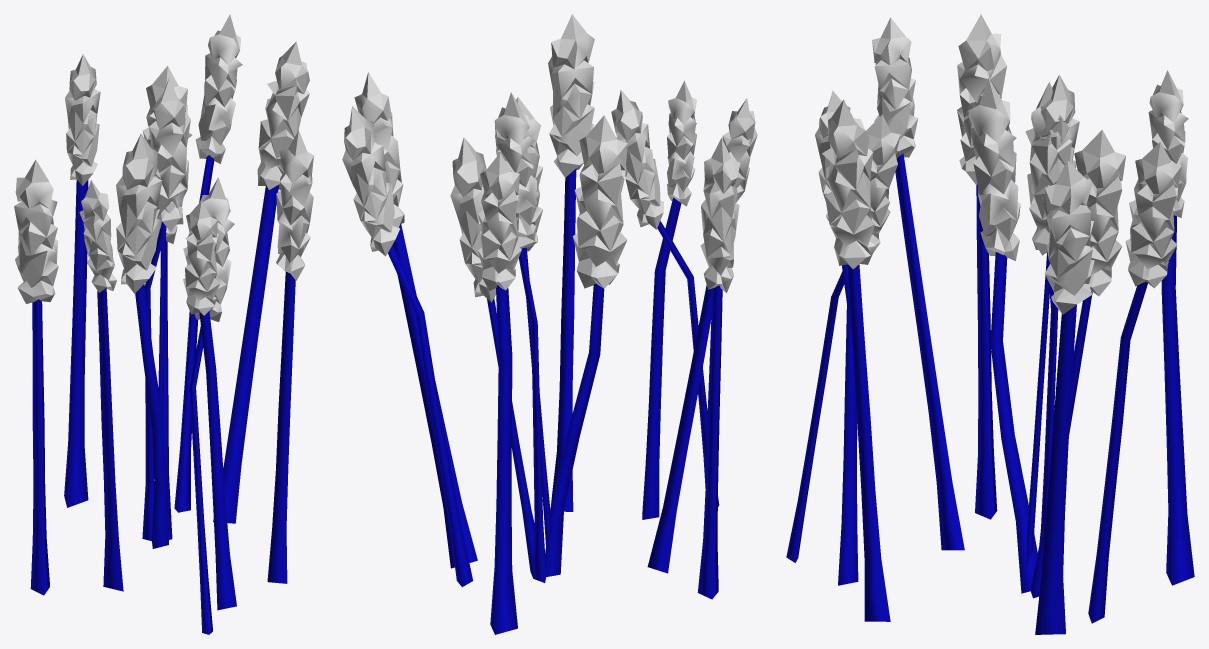
File: PatchWheat01.fbx
3 renders of one model, left to right at view 1: azimuth 30°, elevation 25°; view 2: azimuth 150°, elevation 25°; view 3: azimuth 270°, elevation 25°, orthographic. The views are drawn at different scales.
Visible parts, largest first — view 1: PatchWheat01_LOD0; view 2: PatchWheat01_LOD0; view 3: PatchWheat01_LOD0.
Boxes of the visible parts, left/top/right/bottom form: PatchWheat01_LOD0: left=14, top=14, right=313, bottom=634; PatchWheat01_LOD0: left=342, top=14, right=757, bottom=634; PatchWheat01_LOD0: left=786, top=14, right=1194, bottom=634.
Size of what is drawn, in the model's own units: 95.22 by 129 by 90.46.
